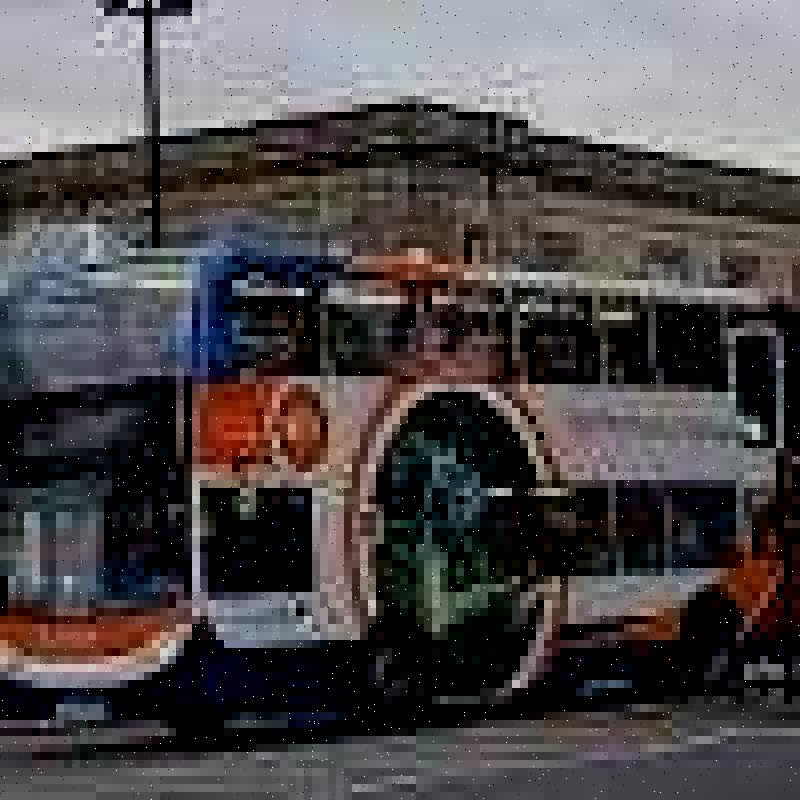bus: (0, 202, 744, 716)
